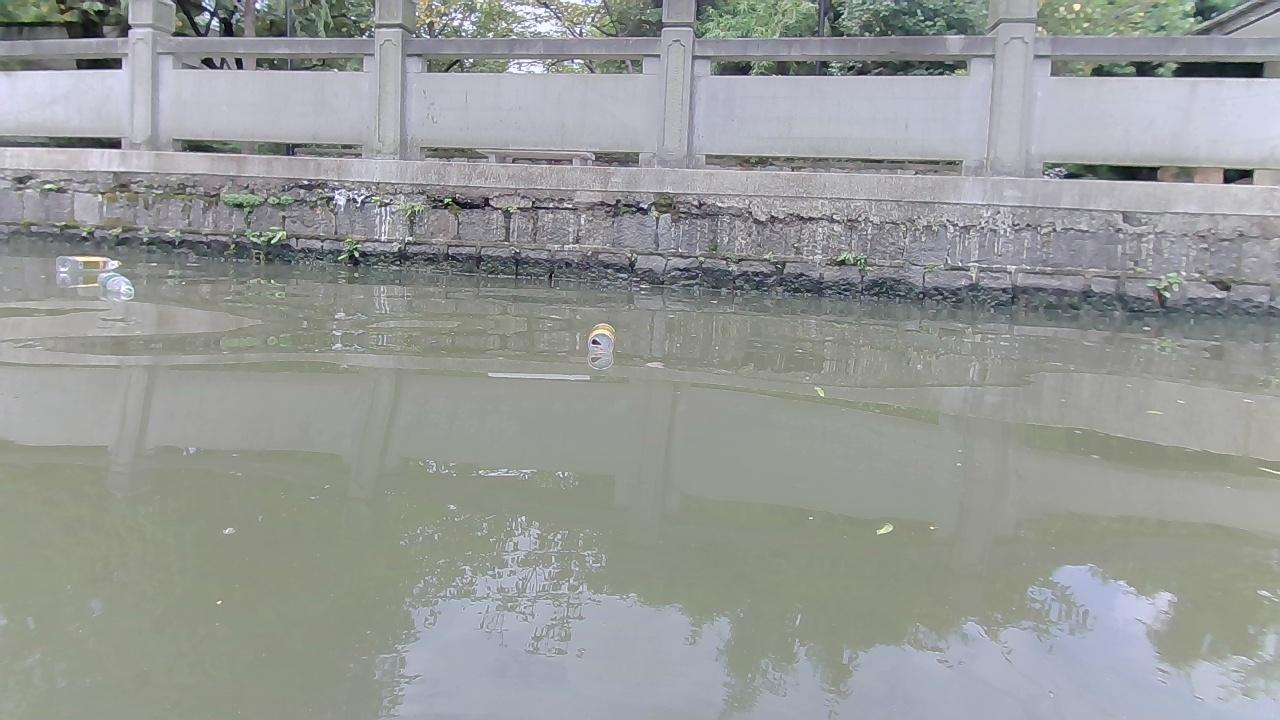bottle: (54, 254, 120, 270), (96, 271, 133, 294), (586, 322, 614, 351)
